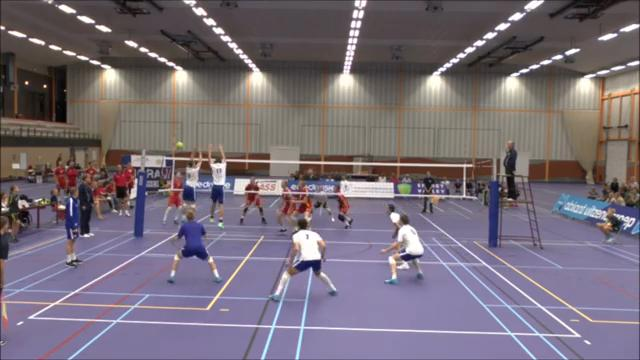attacco: (160, 165, 185, 227)
muro: (204, 144, 230, 230), (175, 147, 201, 228)
